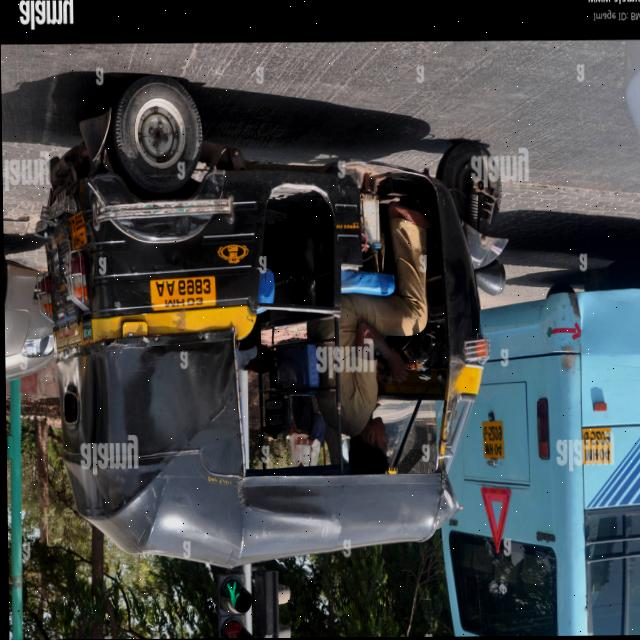plate: (146, 272, 222, 316), (581, 426, 615, 469), (479, 419, 506, 463)
